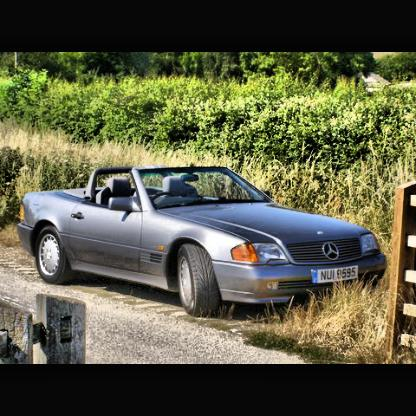Mercedes-Benz 300-Class Convertible 1993: (9, 154, 395, 338)
